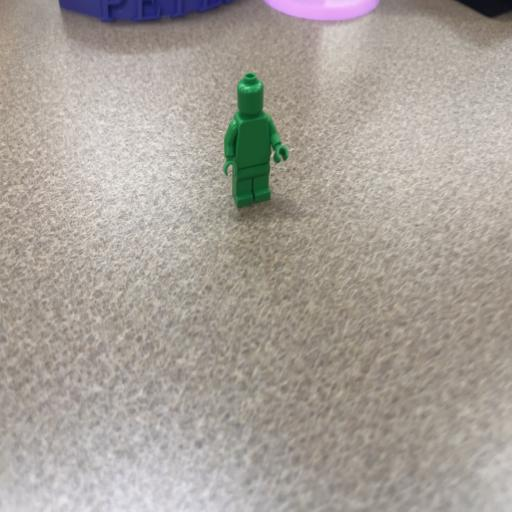Lego-Minifig: (224, 72, 288, 207)
